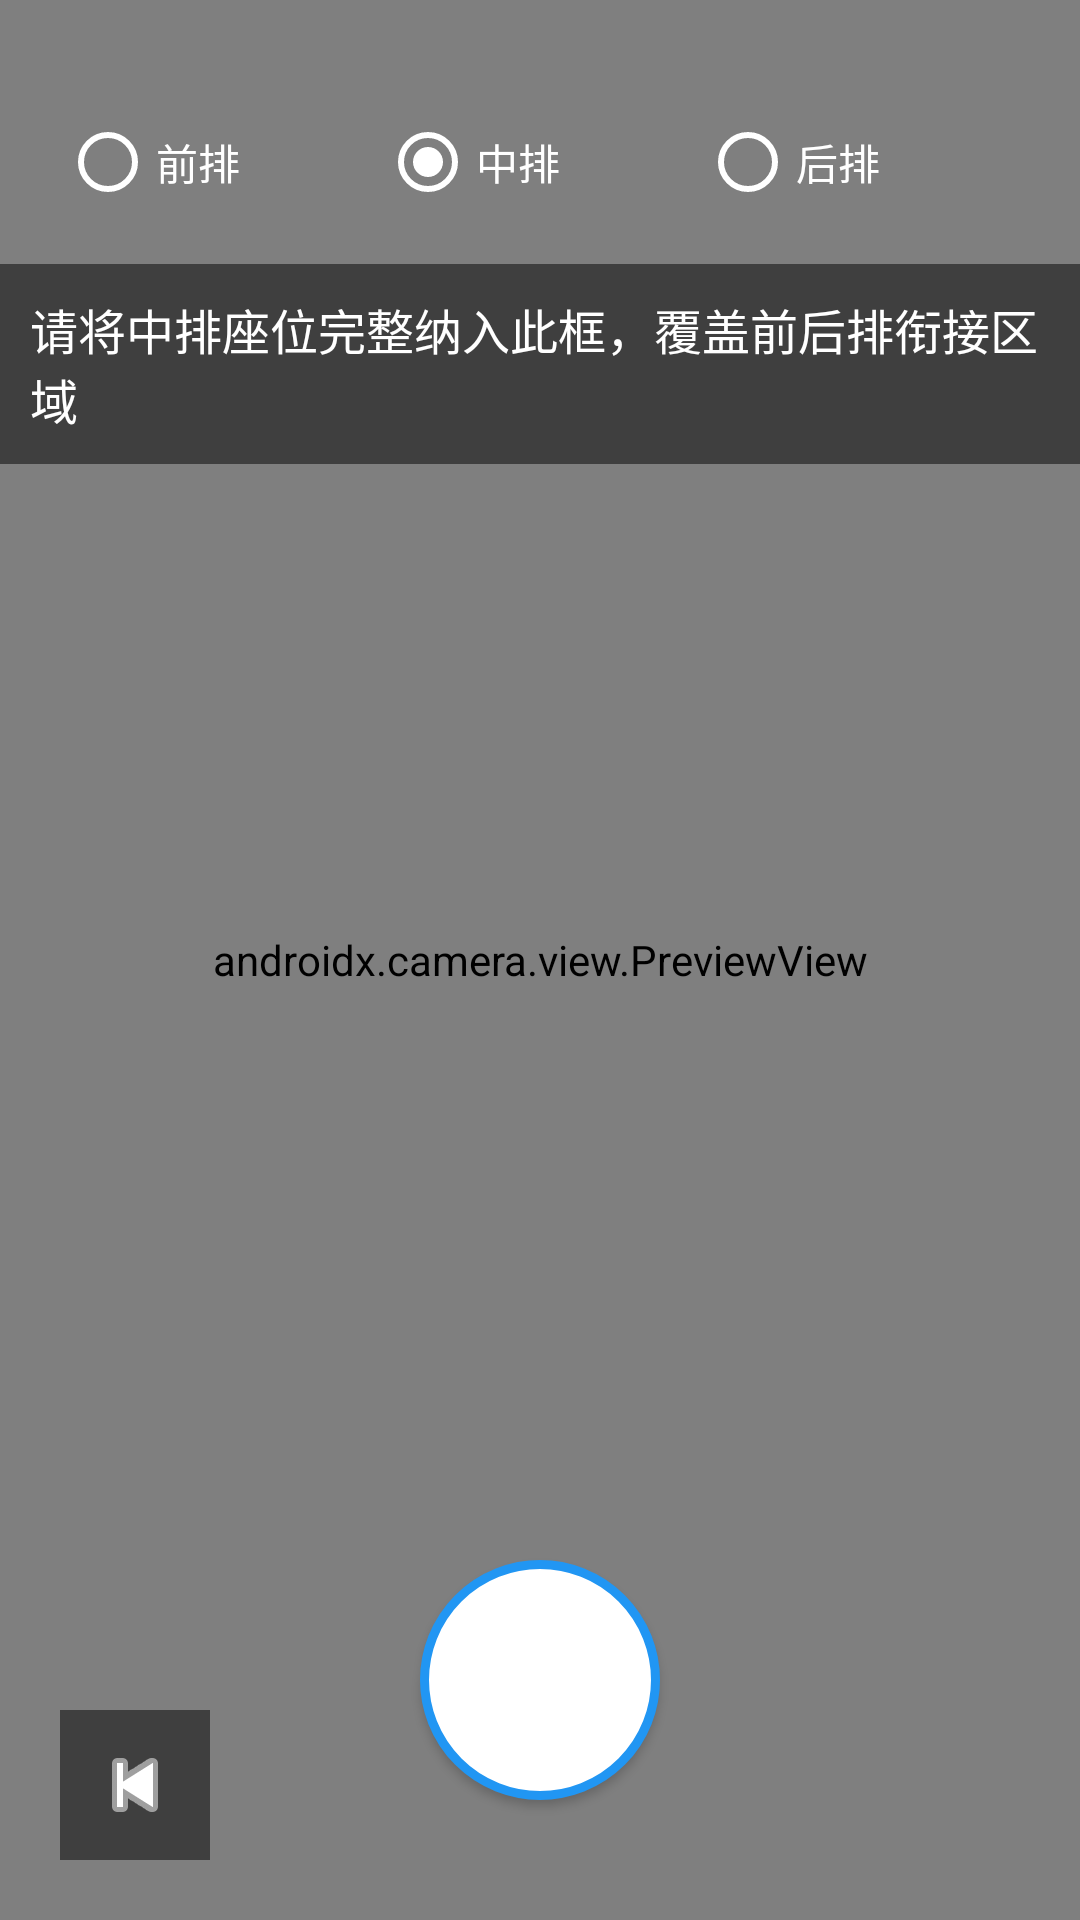

Point at icon controls on the screen. Image size 1080x1920, points as (x=x, y=y).
capture: (x=540, y=1680)
previous: (x=135, y=1785)
